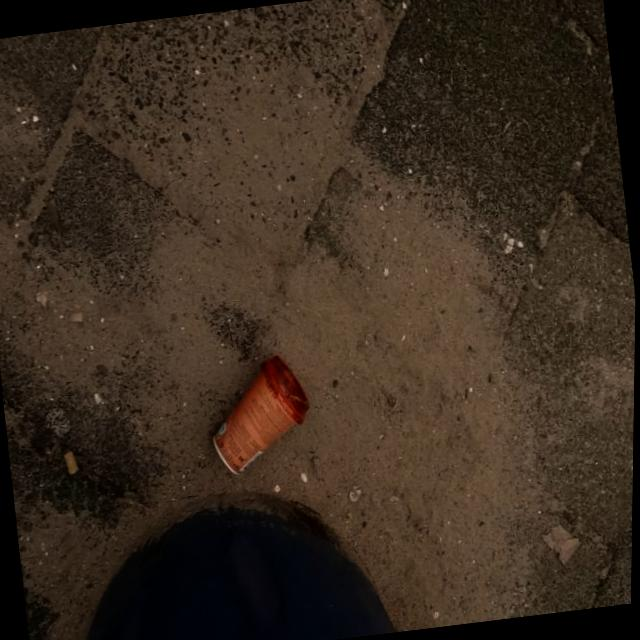Cup: (204, 354, 319, 472)
